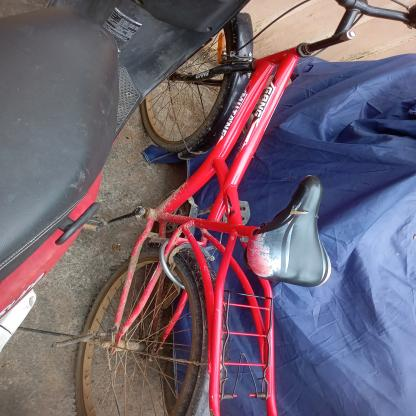bike: (70, 0, 404, 416)
